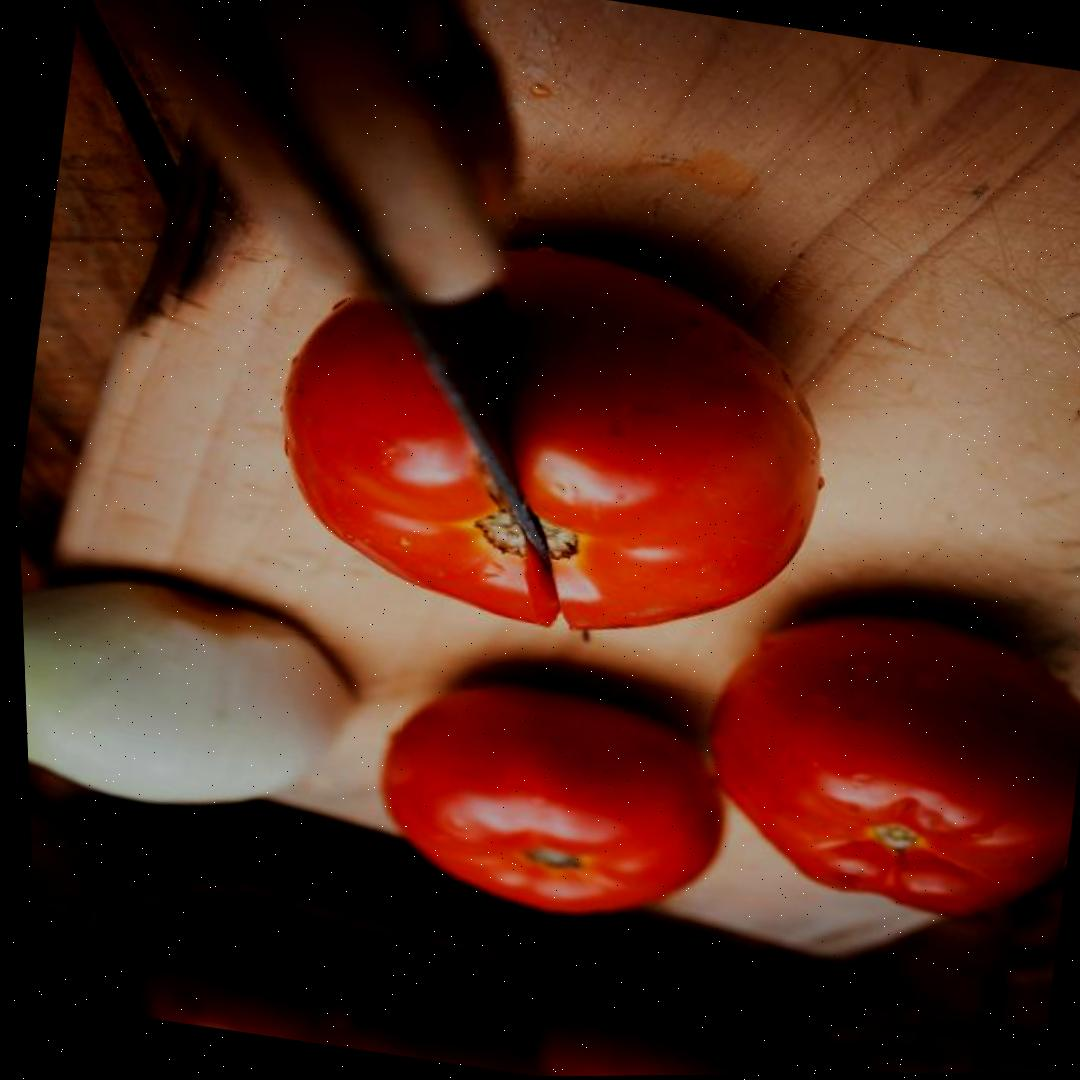matang: (246, 208, 860, 670), (681, 586, 1080, 935), (361, 665, 746, 941)
